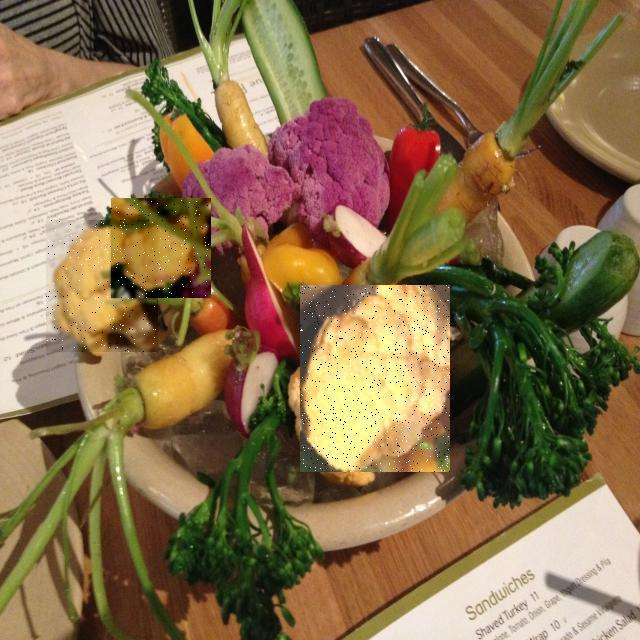Cauliflower: (301, 285, 451, 472), (46, 220, 158, 352), (111, 199, 211, 299)
